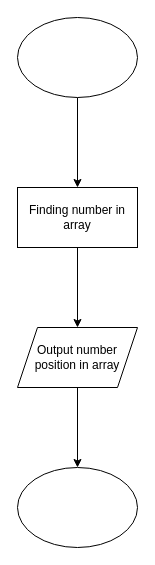
The diagram is 155 pixels wide and 565 high, and some of its shapes have lost their labels. Each missing label, with the centre of its shape:
"End" goes at (77,507).
"Start" goes at (77,57).
